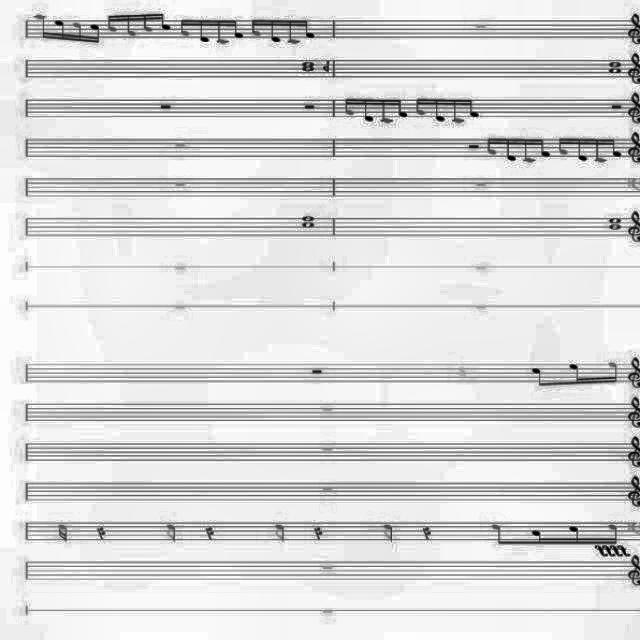Bemol: (318, 63, 332, 77)
Eighth-note: (378, 512, 408, 552), (486, 516, 510, 548), (270, 520, 292, 552), (531, 360, 553, 392), (164, 520, 184, 548)
Eighth-rest: (305, 522, 341, 550), (86, 518, 122, 546), (420, 518, 448, 546), (195, 524, 223, 552)
Sixteenth-note: (520, 518, 556, 558), (461, 84, 484, 126), (568, 356, 592, 392), (518, 128, 538, 166), (572, 128, 592, 166), (409, 93, 431, 125), (55, 518, 77, 550), (302, 12, 321, 48), (392, 91, 411, 127), (535, 126, 553, 164), (588, 130, 606, 168), (428, 91, 448, 125), (564, 522, 588, 550), (380, 92, 394, 134), (338, 92, 354, 128), (448, 89, 464, 125), (268, 14, 282, 51), (158, 5, 172, 42), (504, 134, 520, 166), (606, 132, 622, 164), (362, 90, 374, 132), (32, 10, 52, 34), (556, 127, 570, 161), (87, 21, 105, 47), (216, 12, 227, 54), (55, 14, 69, 46), (286, 14, 298, 51), (198, 12, 210, 48), (72, 18, 86, 46), (606, 516, 618, 548), (142, 6, 154, 34), (105, 14, 119, 38), (179, 10, 189, 42), (234, 10, 242, 46), (128, 8, 136, 40), (608, 356, 616, 388), (254, 12, 262, 42), (488, 133, 497, 159)
Treble-clef: (624, 348, 640, 392), (622, 393, 640, 431), (623, 9, 640, 47), (626, 550, 640, 594), (624, 434, 640, 468), (626, 51, 640, 89), (626, 132, 640, 168), (626, 472, 640, 508), (628, 206, 640, 246), (628, 90, 640, 128), (639, 9, 640, 47)
